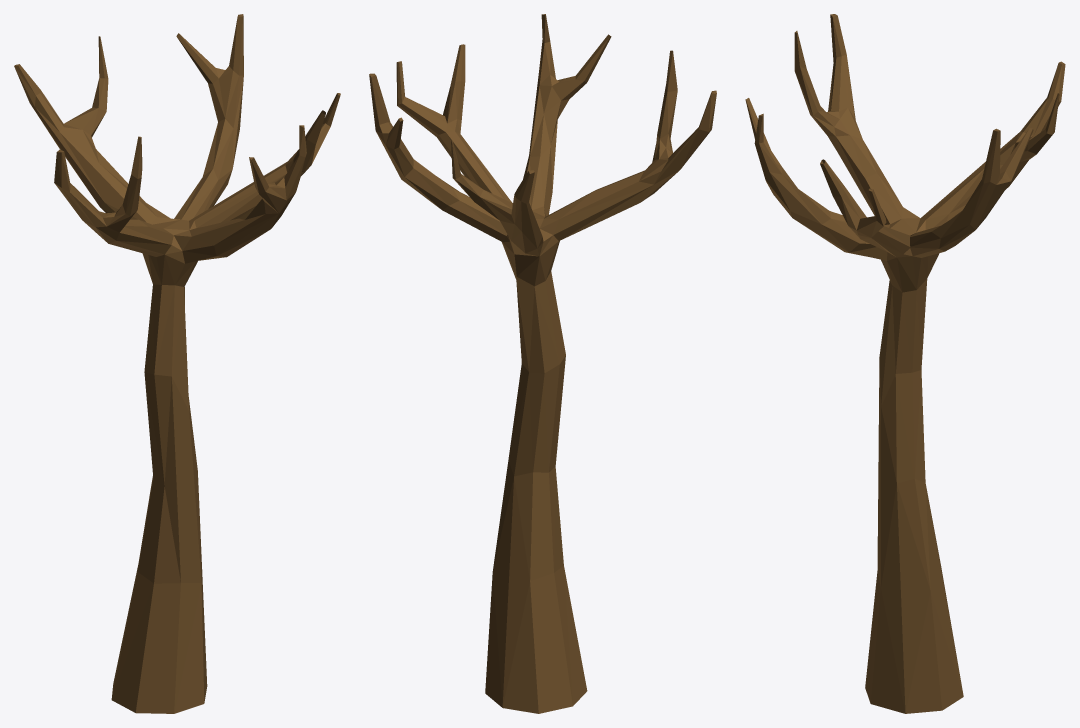
The model's file is OakTree3NoLeaves.fbx.
3 views of the same model, side by side, from view 1: azimuth 30°, elevation 25°; view 2: azimuth 150°, elevation 25°; view 3: azimuth 270°, elevation 25° (orthographic).
Visible parts, largest first — view 1: Tree_LOD0; view 2: Tree_LOD0; view 3: Tree_LOD0.
Part boxes in pixels (bbox=[...]): Tree_LOD0: bbox=[14, 14, 340, 713]; Tree_LOD0: bbox=[369, 14, 716, 713]; Tree_LOD0: bbox=[745, 14, 1065, 713].
Size of what is drawn, in the model's own units: 237 by 464 by 216.
